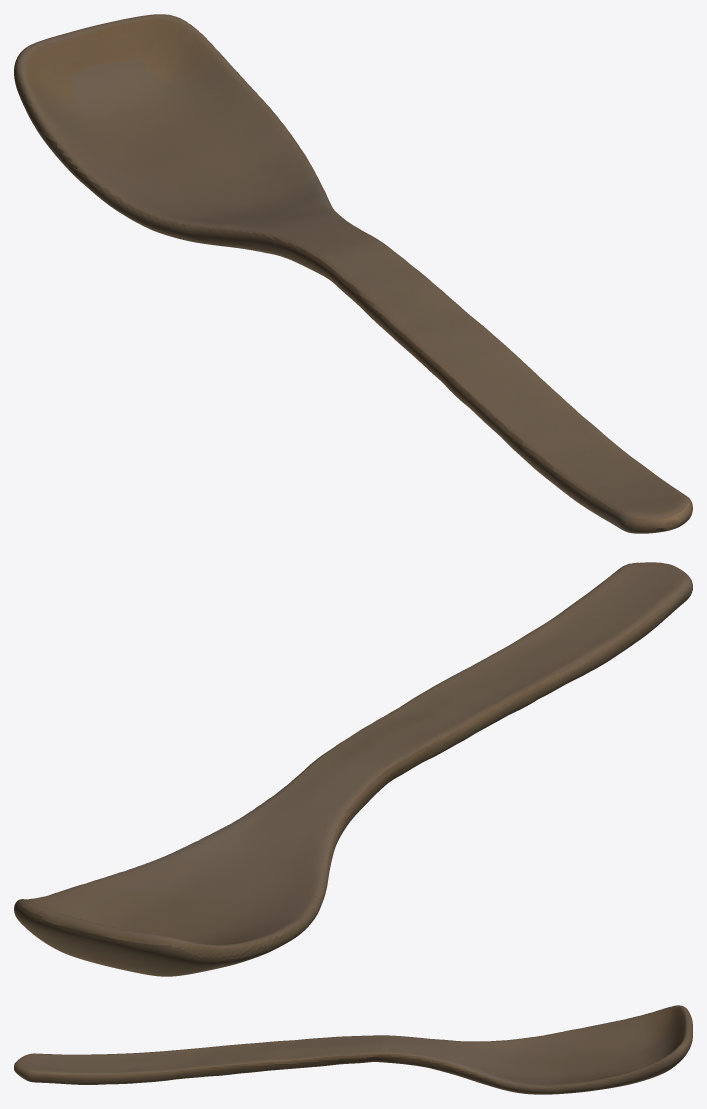
Rendered from iter_6.glb.
3 renders of one model, top to bottom at view 1: azimuth 30°, elevation 25°; view 2: azimuth 150°, elevation 25°; view 3: azimuth 270°, elevation 25°, orthographic. The views are drawn at different scales.
Visible parts, largest first — view 1: textured_mesh; view 2: textured_mesh; view 3: textured_mesh.
Boxes of the visible parts, <box> form: textured_mesh: <box>14,14,692,533</box>; textured_mesh: <box>14,562,692,976</box>; textured_mesh: <box>14,1005,692,1094</box>.
Bounding box in the file's own units: 0.4008 × 0.1732 × 1.97.
1 material, 1 textured.
